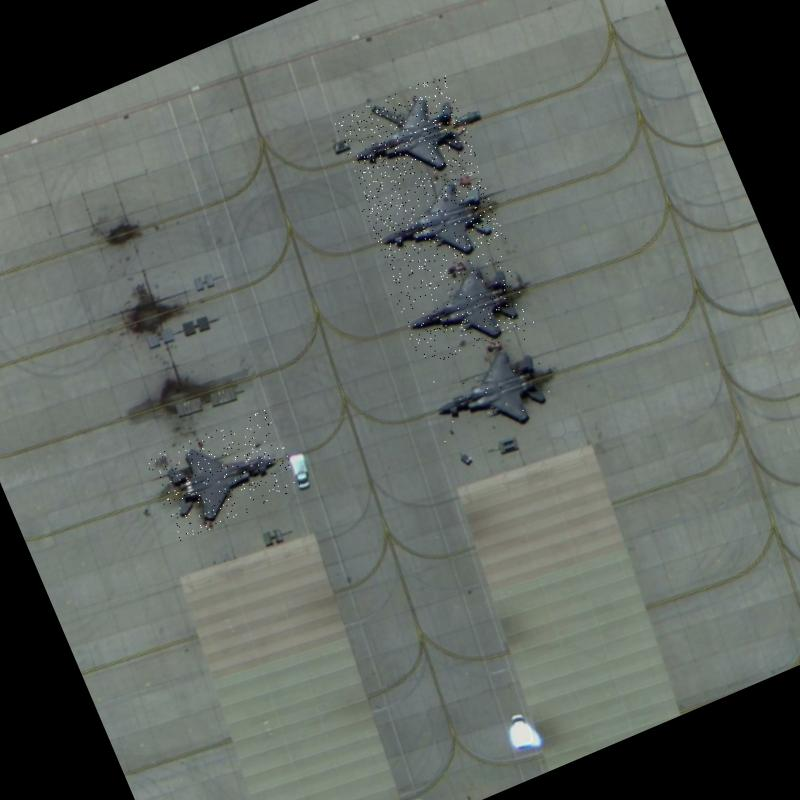A13: (144, 408, 302, 542), (334, 72, 481, 204), (390, 245, 537, 375), (415, 326, 560, 456), (361, 160, 508, 286)
